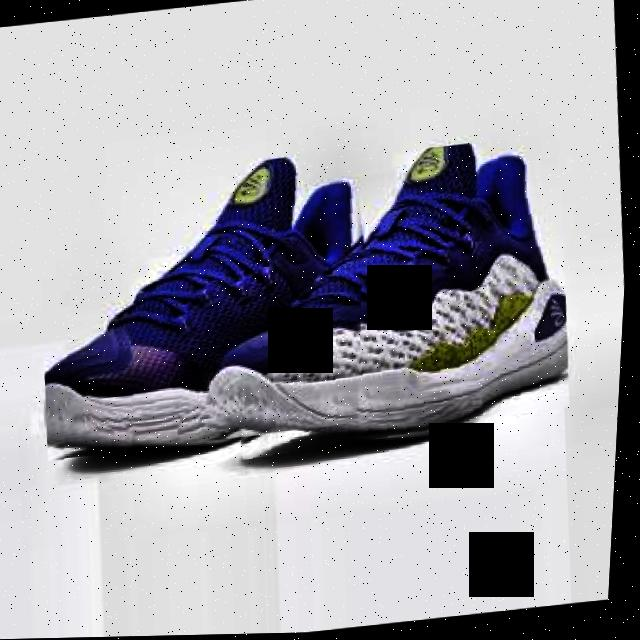shoe: (205, 136, 586, 463), (28, 150, 392, 462)
